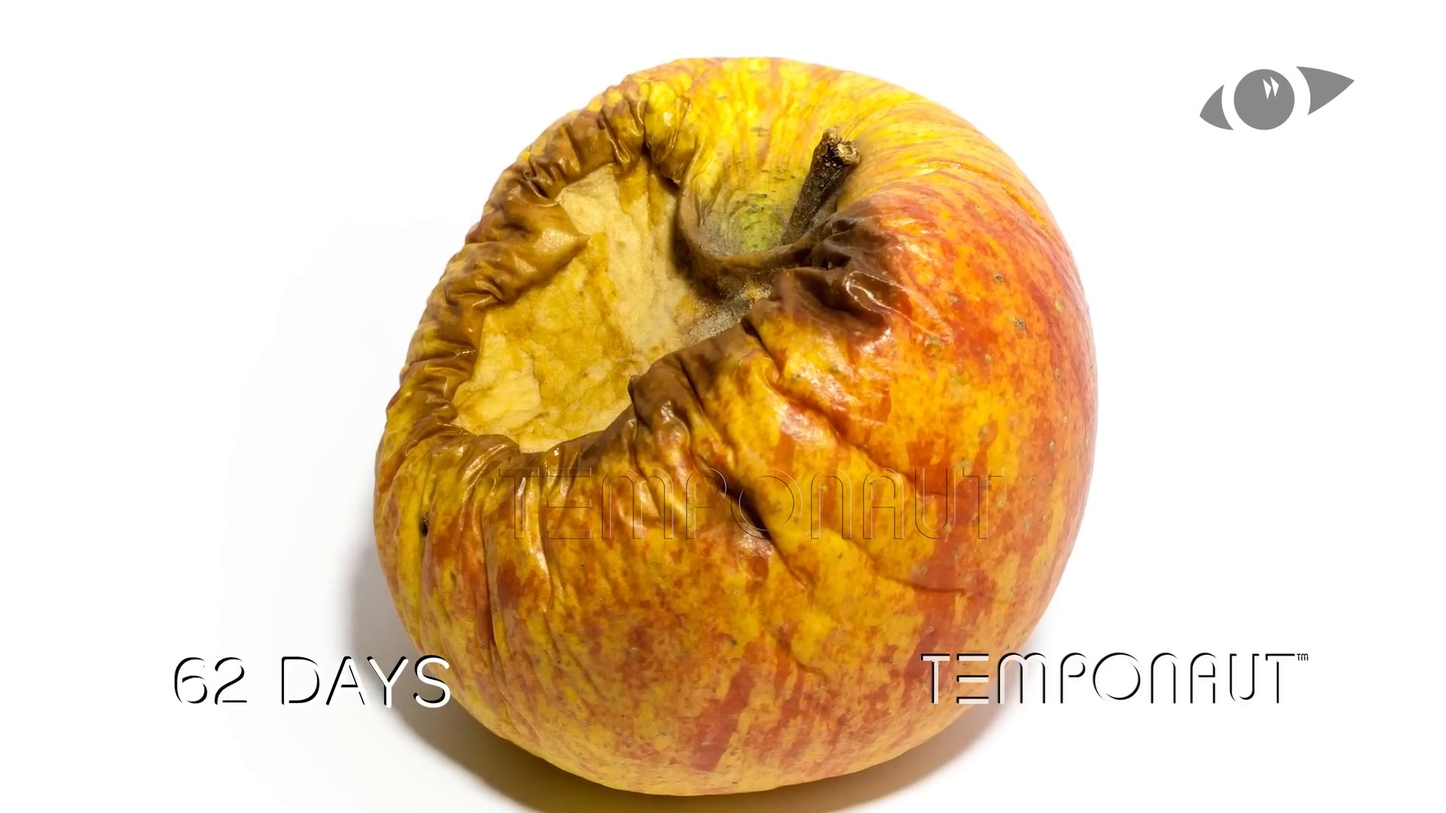apple_rotten: (371, 56, 1099, 797)
